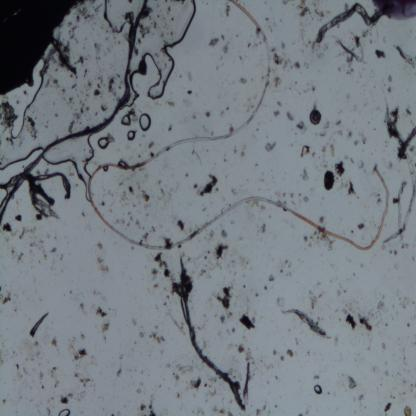Air bubble: (129, 1, 196, 102), (5, 62, 45, 141), (0, 115, 39, 168), (52, 141, 96, 184), (104, 1, 138, 34), (139, 113, 151, 132), (97, 136, 110, 150), (121, 114, 133, 127), (126, 129, 136, 143), (313, 383, 323, 395), (58, 408, 71, 416)
Background material: (51, 36, 78, 76), (272, 47, 302, 73), (26, 229, 49, 261), (302, 231, 333, 253), (192, 172, 218, 198), (50, 76, 74, 104), (214, 286, 233, 314), (1, 101, 18, 131), (155, 252, 173, 280), (29, 312, 48, 338), (243, 348, 252, 400), (373, 296, 388, 326), (297, 0, 314, 25), (25, 115, 39, 142), (13, 362, 30, 383), (73, 371, 92, 389), (238, 313, 258, 330), (175, 362, 193, 380), (139, 226, 156, 245), (359, 312, 374, 332), (48, 365, 60, 389), (307, 288, 320, 310), (344, 312, 358, 332), (346, 177, 358, 200), (78, 3, 93, 21), (323, 170, 335, 192), (96, 256, 109, 276), (149, 329, 166, 344), (138, 22, 151, 40), (106, 75, 117, 96), (94, 304, 108, 320), (0, 289, 12, 307), (334, 160, 346, 178), (72, 348, 88, 361), (215, 242, 228, 258), (93, 40, 102, 62), (72, 106, 85, 121), (264, 140, 277, 155), (319, 120, 331, 136), (346, 374, 357, 391), (188, 377, 202, 390), (60, 390, 74, 403), (373, 48, 387, 61), (139, 402, 154, 414), (299, 166, 310, 182), (162, 235, 174, 248), (124, 10, 136, 23), (101, 320, 112, 334), (68, 117, 76, 135), (301, 143, 310, 159), (328, 141, 336, 159), (18, 226, 28, 240), (176, 218, 186, 232), (141, 189, 150, 204), (402, 404, 413, 416), (208, 36, 219, 48), (297, 121, 307, 134), (236, 342, 245, 356), (1, 222, 12, 233), (273, 76, 283, 88), (386, 73, 392, 93), (356, 222, 366, 233), (50, 335, 59, 347), (220, 228, 229, 240), (272, 108, 281, 120), (260, 220, 267, 235), (17, 251, 24, 266), (286, 110, 294, 123), (306, 83, 315, 94), (77, 54, 85, 66), (222, 41, 229, 54), (99, 104, 109, 113), (285, 348, 294, 358), (238, 75, 248, 84), (318, 213, 326, 224), (384, 401, 391, 413), (127, 186, 136, 195), (14, 213, 22, 223), (225, 4, 231, 17), (34, 212, 43, 220), (219, 314, 226, 324), (93, 88, 101, 96), (186, 88, 193, 97), (268, 274, 275, 283), (358, 159, 364, 169), (347, 128, 352, 140), (204, 110, 212, 117), (147, 140, 154, 148), (117, 368, 123, 376), (303, 195, 309, 203), (279, 356, 285, 362)
Cellulose filter fibre: (178, 256, 247, 412), (384, 110, 416, 244), (0, 170, 59, 220), (316, 3, 382, 43), (330, 26, 373, 70), (279, 306, 328, 340), (32, 171, 72, 199), (396, 178, 407, 249), (392, 43, 416, 72)
Cotton: (0, 0, 148, 222)
Diatom: (309, 108, 322, 126)
Microfibre: (87, 0, 390, 252)
Pen: (0, 0, 76, 97), (374, 0, 416, 21)
